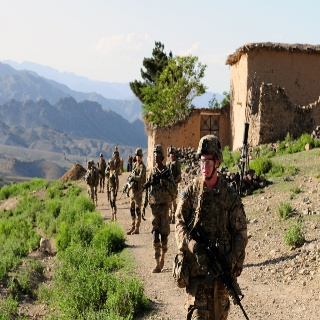rifle: (189, 221, 253, 320), (136, 168, 172, 196)
